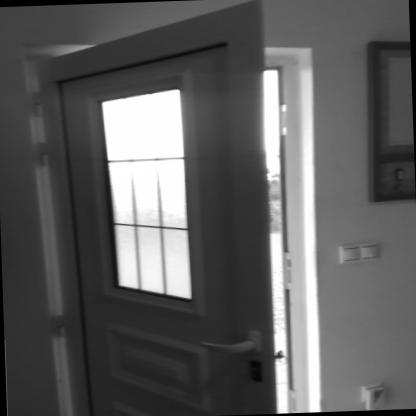semi: (14, 19, 319, 416)
